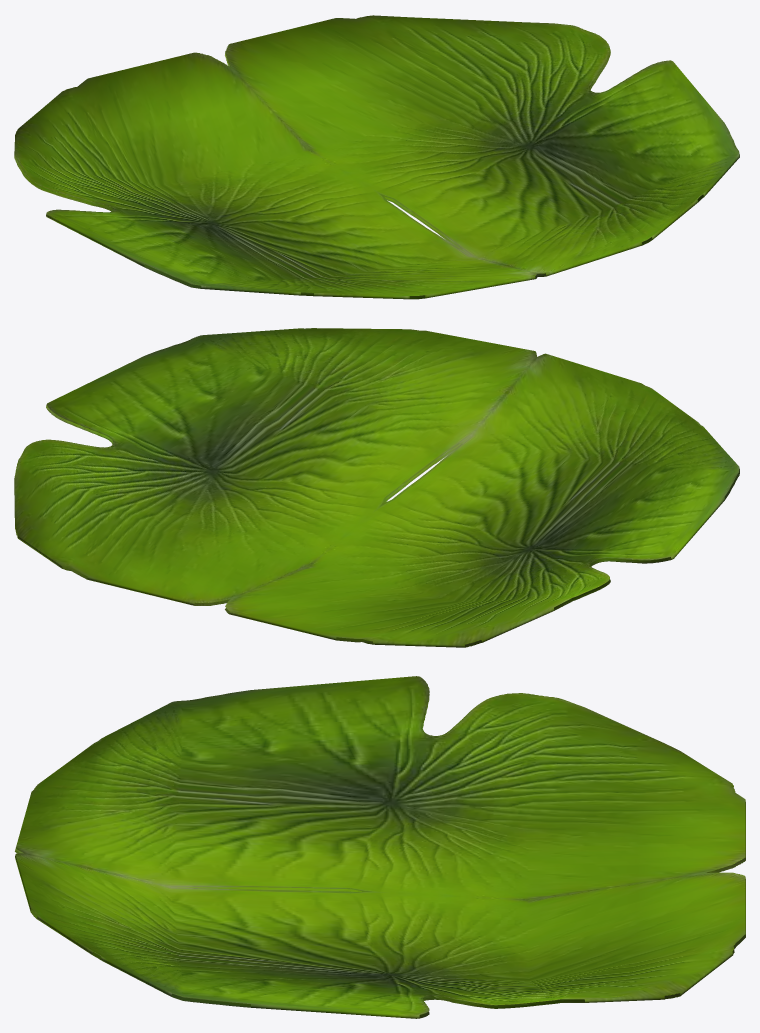
File: nackross.fbx
3 views of the same model, one above another, from view 1: azimuth 30°, elevation 25°; view 2: azimuth 150°, elevation 25°; view 3: azimuth 270°, elevation 25° (orthographic). The views are drawn at different scales.
Visible parts, largest first — view 1: Leaf; view 2: Leaf; view 3: Leaf.
Part boxes in pixels (bbox=[...]): Leaf: bbox=[14, 15, 739, 299]; Leaf: bbox=[14, 328, 739, 647]; Leaf: bbox=[15, 676, 745, 1018].
Size of the model in its own units: 216 by 17.11 by 196.
1 material, 1 textured.
